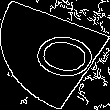O_SE: (11, 24, 99, 86)
